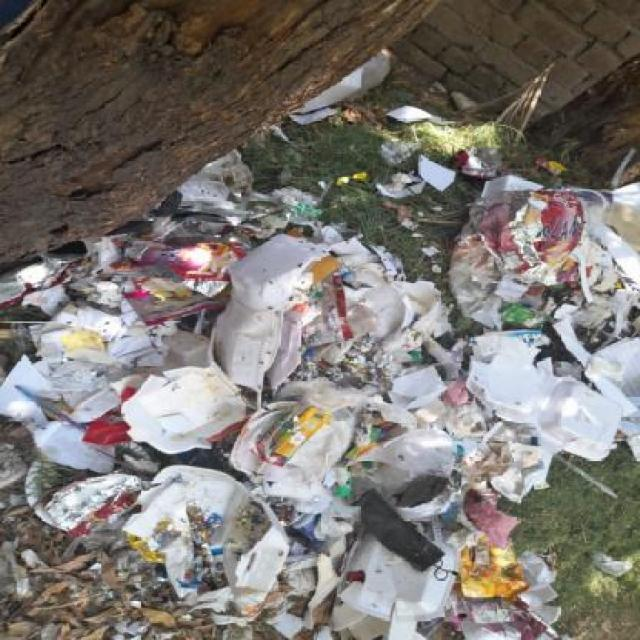garbage: (6, 74, 639, 640)
